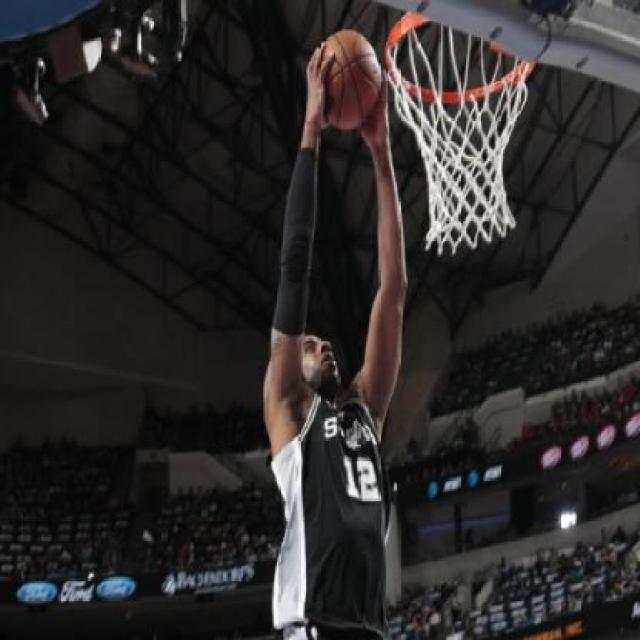basketball: (310, 28, 382, 134)
rim: (386, 10, 546, 246)
